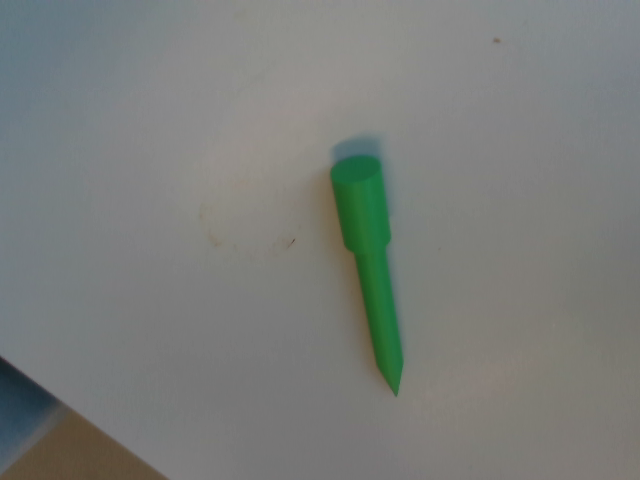Probe: (325, 151, 407, 405)
